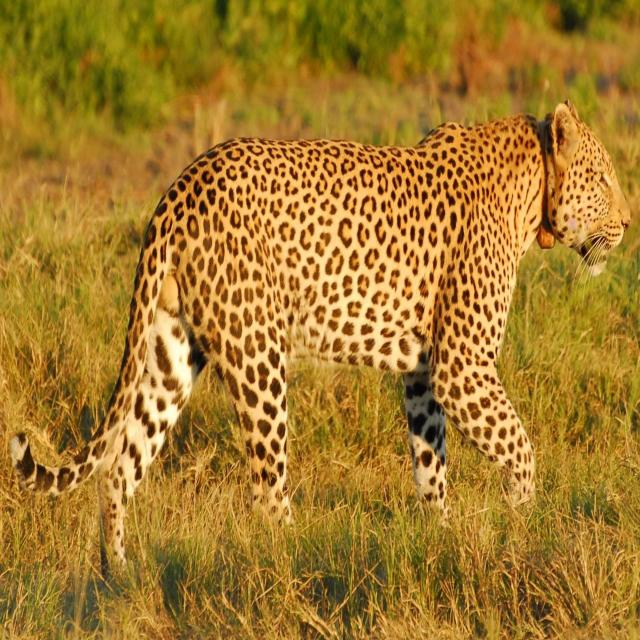Leopard: (8, 110, 621, 582)
